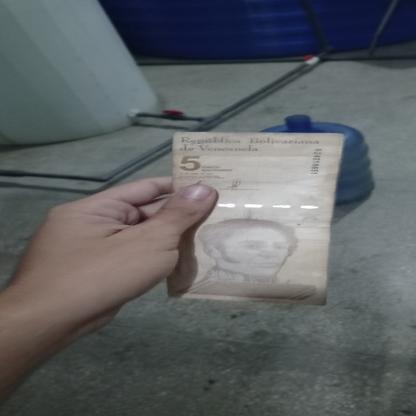five-front-vef: (165, 130, 345, 306)
